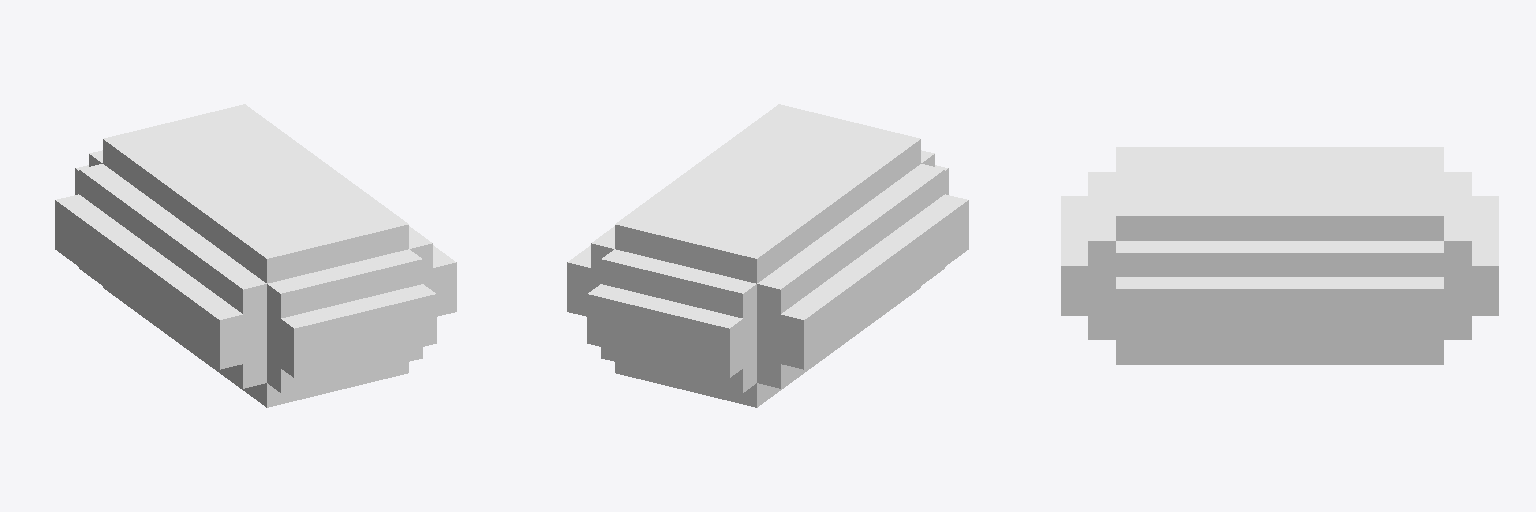
The model's file is Platform1Time.obj.
3 renders of one model, left to right at view 1: azimuth 30°, elevation 25°; view 2: azimuth 150°, elevation 25°; view 3: azimuth 270°, elevation 25°, orthographic.
Parts seen in each view (by area): view 1: object 1; view 2: object 1; view 3: object 1.
Part boxes in pixels (x1,y1,x2,y2): object 1: (55,104,456,407); object 1: (567,104,968,407); object 1: (1061,147,1498,364).
Bounding box in the file's own units: 1 × 0.6 × 1.6.